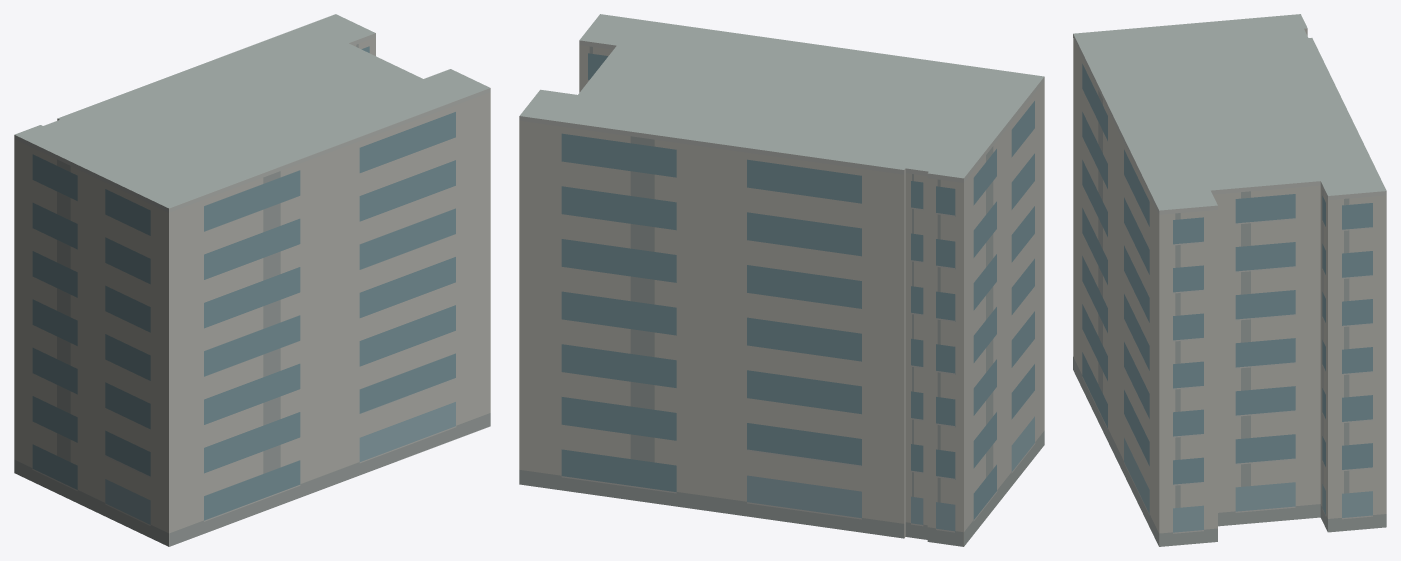
File: survey-upis-32683428.glb
3 views of the same model, side by side, from view 1: azimuth 30°, elevation 25°; view 2: azimuth 150°, elevation 25°; view 3: azimuth 270°, elevation 25° (orthographic). The views are drawn at different scales.
Visible parts, largest first — view 1: survey-upis-32683428.tmp; view 2: survey-upis-32683428.tmp; view 3: survey-upis-32683428.tmp.
Part boxes in pixels (x1,y1,x2,y2): survey-upis-32683428.tmp: [14, 14, 490, 546]; survey-upis-32683428.tmp: [519, 14, 1044, 546]; survey-upis-32683428.tmp: [1073, 14, 1386, 546].
Size of the model in its own units: 24.32 by 19.4 by 16.4.
